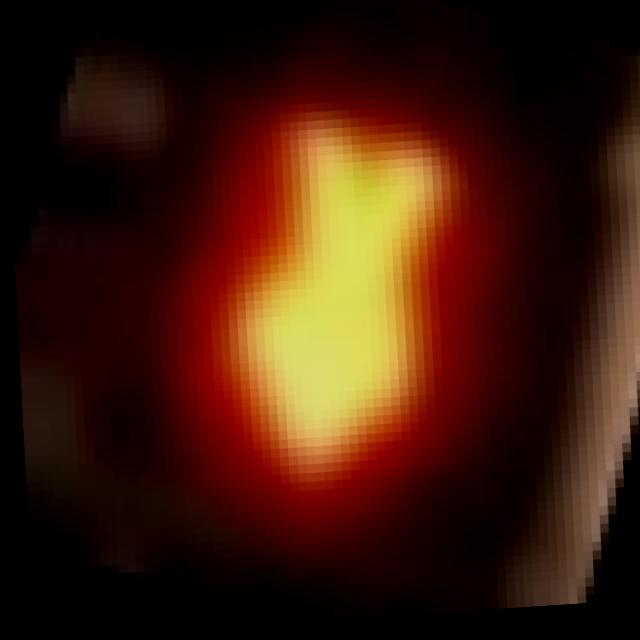red_light: (64, 50, 586, 602)
